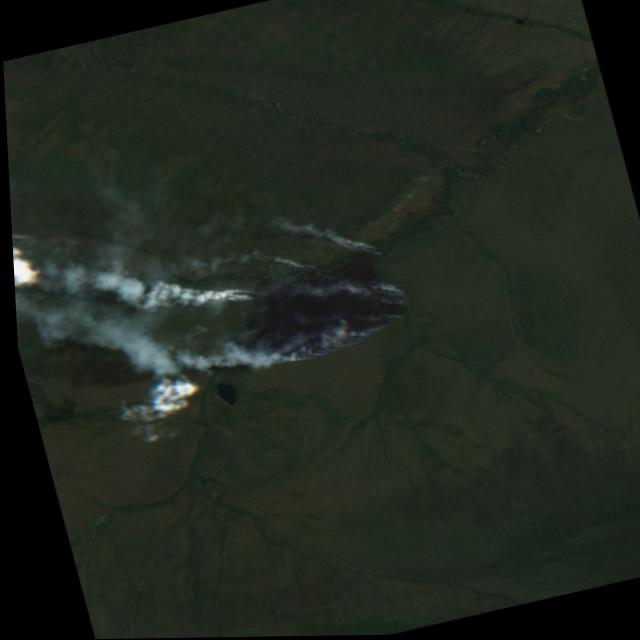fire: (185, 231, 419, 385)
